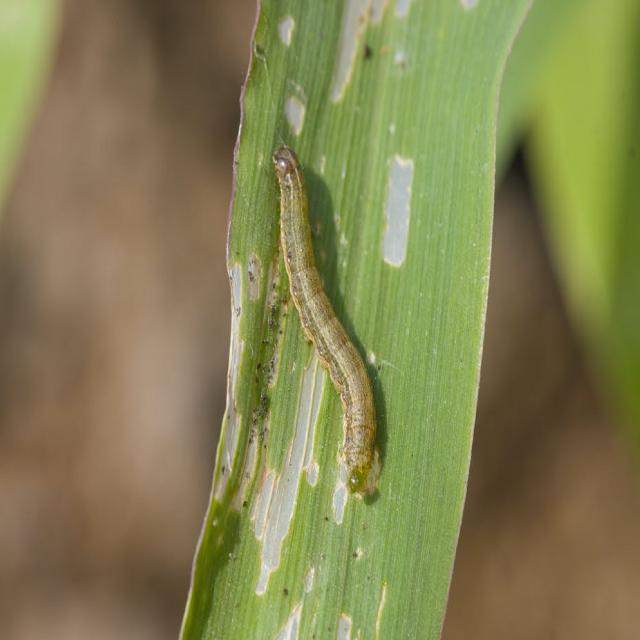armyworm: (268, 140, 381, 493)
